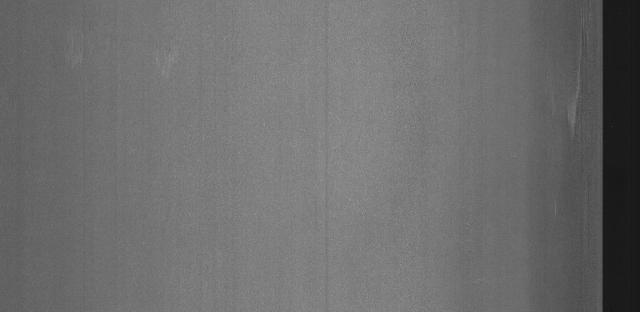silk_spot: (538, 37, 595, 148)
